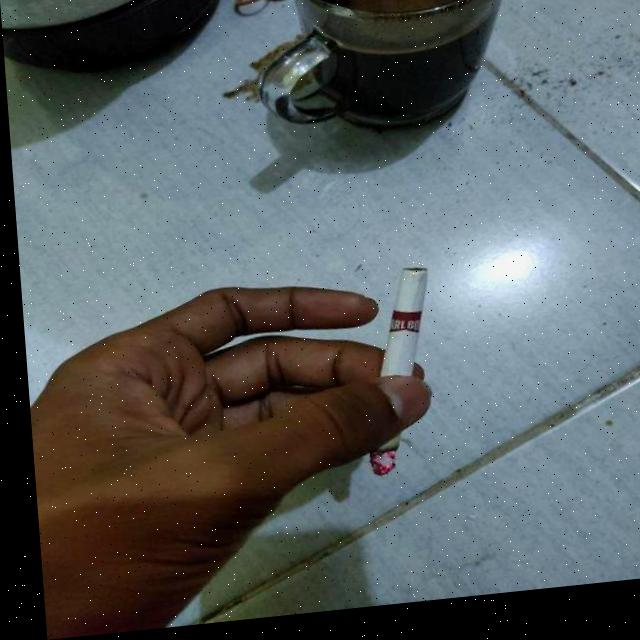cigarette: (349, 277, 433, 481)
